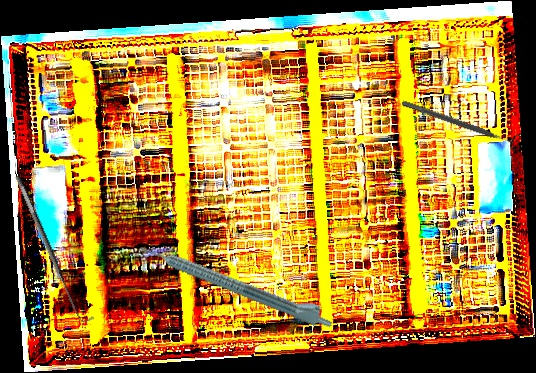Fixation Ring: (399, 93, 522, 152)
Handpiece: (137, 233, 338, 332)
Hook Surgical: (13, 170, 96, 328)
